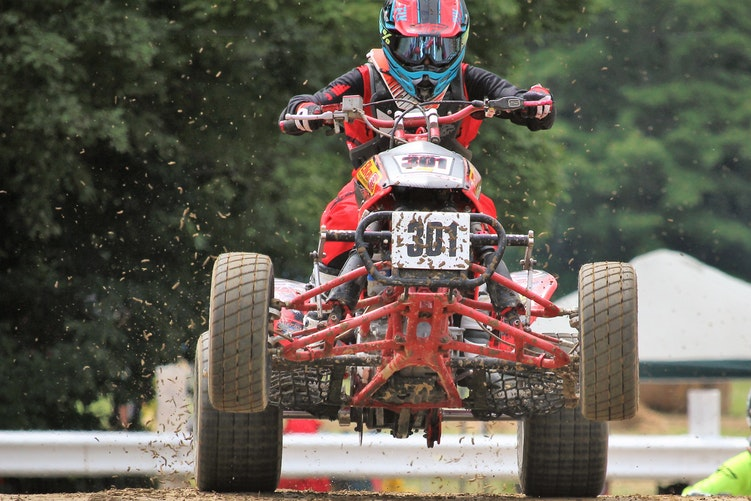helmet: (374, 1, 472, 87)
